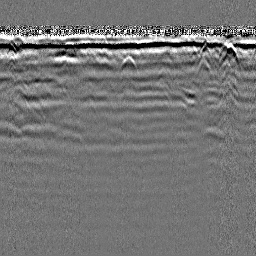cavity: (118, 54, 140, 73)
